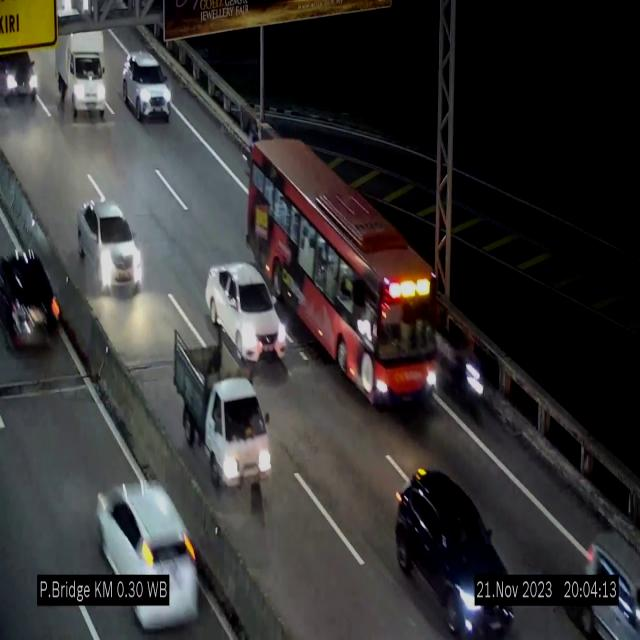Bus: (249, 140, 439, 410)
Car: (396, 467, 517, 640), (90, 463, 200, 632), (568, 498, 639, 640), (0, 235, 64, 365), (206, 262, 284, 360), (77, 199, 143, 293), (123, 52, 171, 120), (0, 40, 40, 107)
Motorcycle: (455, 329, 489, 435)
Truck: (173, 328, 271, 498), (53, 0, 108, 125)
